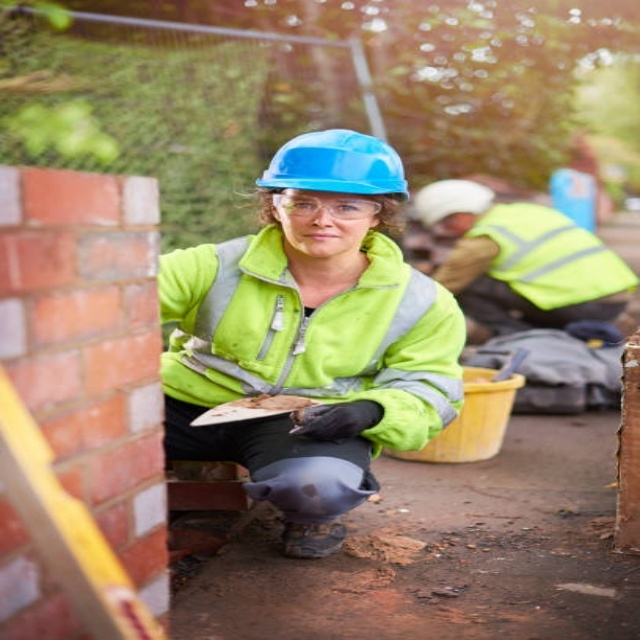Gafas: (274, 194, 382, 220)
Guantes: (292, 399, 383, 443)
Sin_mascara: (295, 229, 347, 252)
